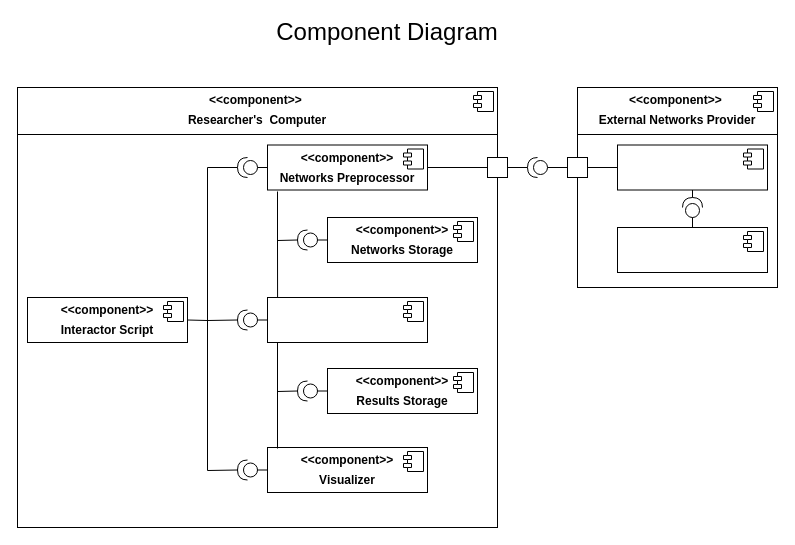
This 795x545 diagram has some shape labels left out. The shapes that lost their labels are listed below. From the top down, each one's centre as x and y in pixels, then its label:
[692,167]: <<component>> Provider API
[692,249]: <<component>> Provider Database
[347,319]: <<component>> Solver
